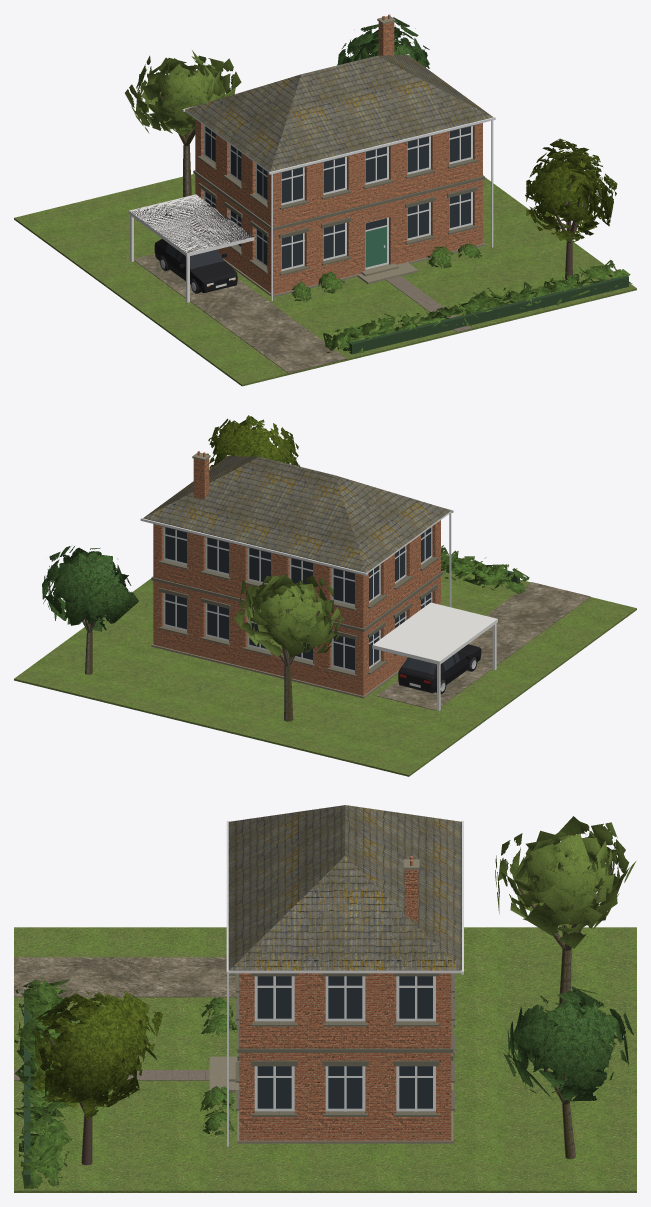
The model's file is house_hip_brick.glb.
3 views of the same model, one above another, from view 1: azimuth 30°, elevation 25°; view 2: azimuth 150°, elevation 25°; view 3: azimuth 270°, elevation 25° (orthographic). The views are drawn at different scales.
Visible parts, largest first — view 1: house_hip_brick_body, house_hip_brick_foliage; view 2: house_hip_brick_body, house_hip_brick_foliage; view 3: house_hip_brick_body, house_hip_brick_foliage.
Boxes of the visible parts, x1,y1,x2,y2 form: house_hip_brick_body: [14, 14, 636, 386]; house_hip_brick_foliage: [125, 17, 632, 352]; house_hip_brick_body: [14, 451, 636, 776]; house_hip_brick_foliage: [42, 415, 533, 657]; house_hip_brick_body: [14, 805, 636, 1192]; house_hip_brick_foliage: [14, 816, 636, 1188].
Bounding box in the file's own units: 0.94 × 0.4406 × 0.94.
25 materials, 15 textured.
